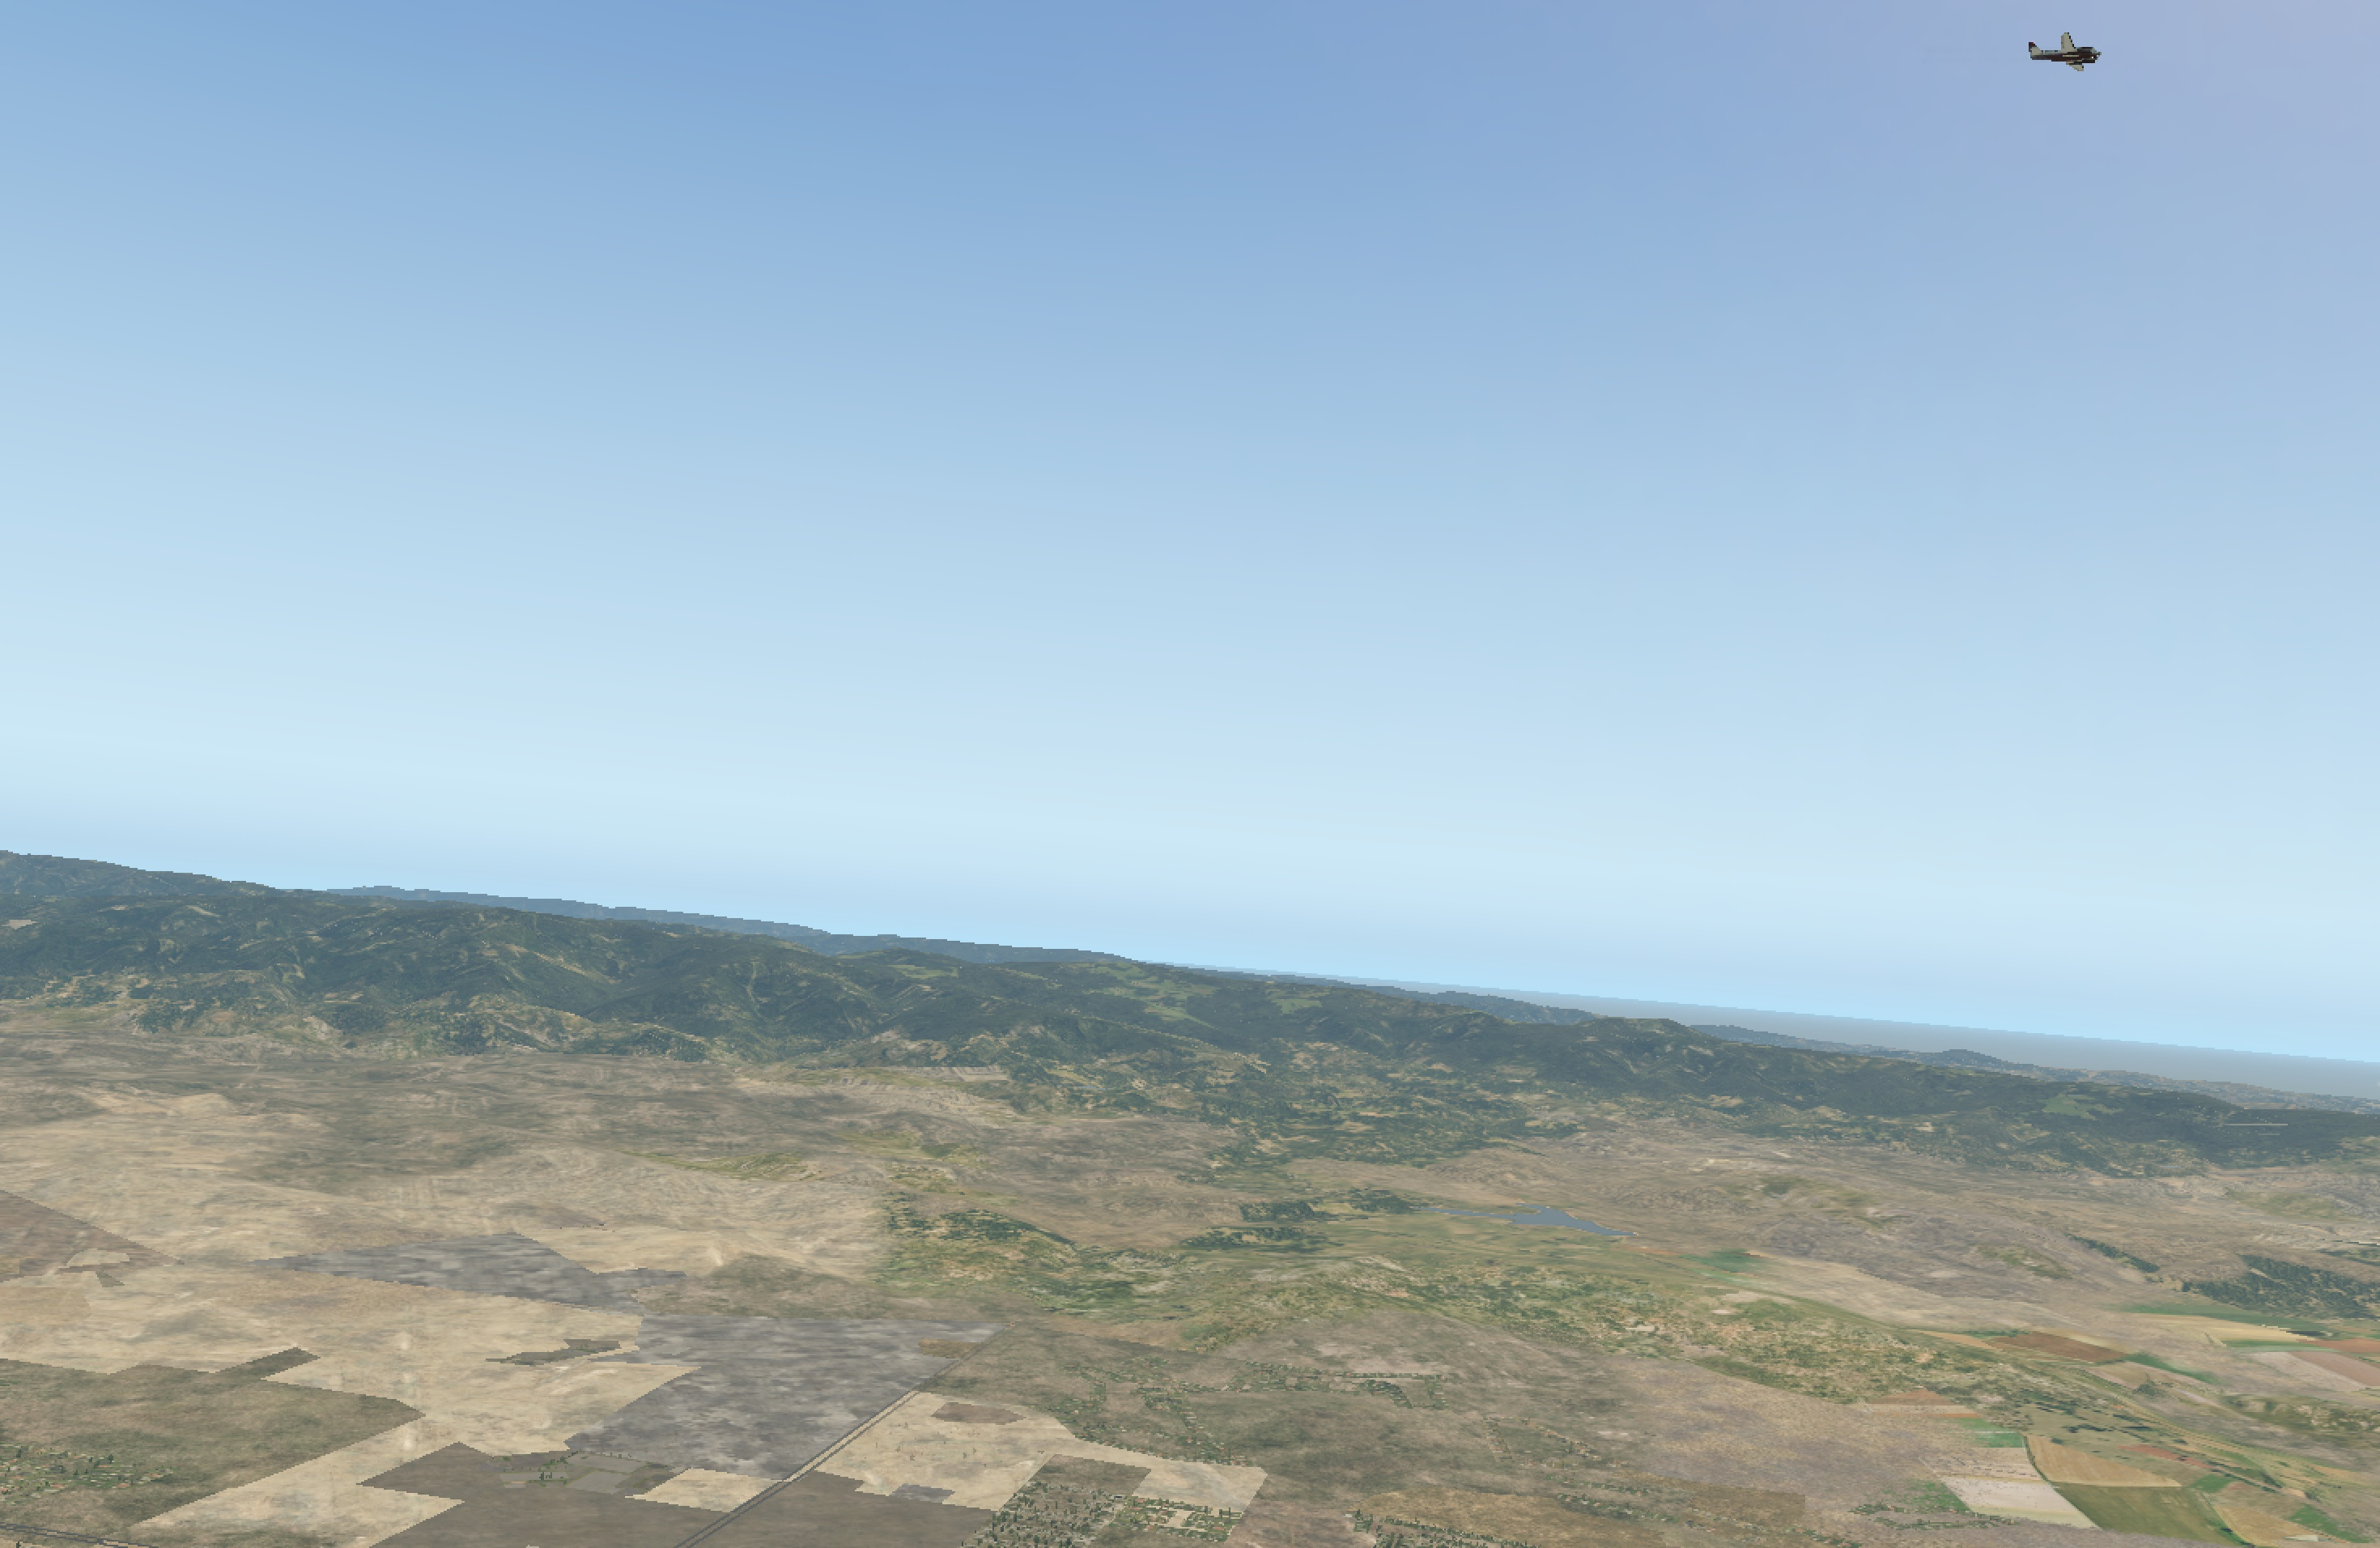aircraft: (2031, 42, 2122, 75)
